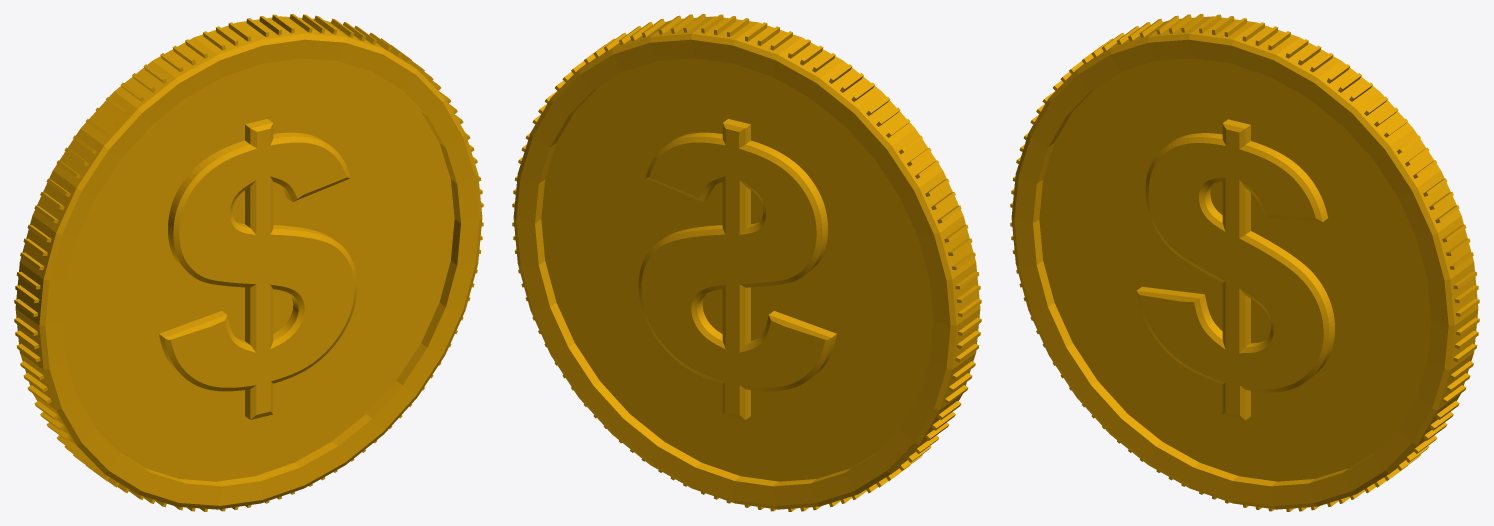
The model's file is gold.gltf.
3 renders of one model, left to right at view 1: azimuth 30°, elevation 25°; view 2: azimuth 150°, elevation 25°; view 3: azimuth 330°, elevation 25°, orthographic.
Parts seen in each view (by area): view 1: Coin; view 2: Coin; view 3: Coin.
Boxes of the visible parts, box(x1,y1,x2,y2) form: Coin: box(14, 14, 483, 511); Coin: box(512, 14, 981, 511); Coin: box(1010, 14, 1479, 511).
Size of the model in its own units: 2.03 by 2.03 by 0.21.
